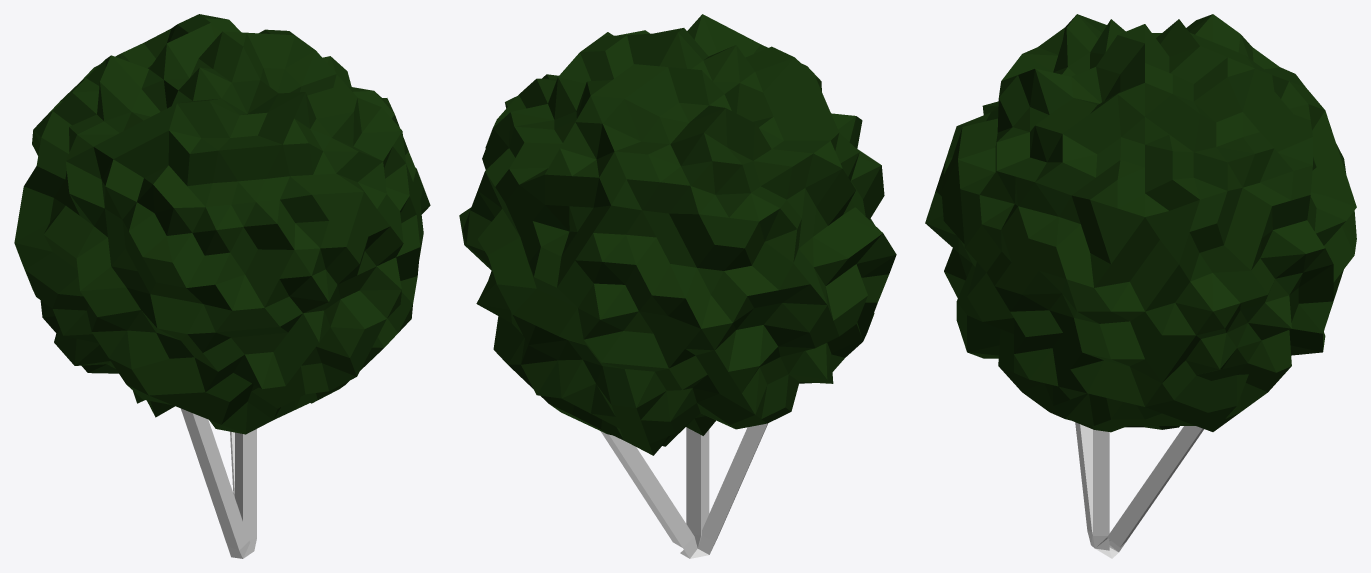
File: Circuito_Arbustos 2.fbx
3 renders of one model, left to right at view 1: azimuth 30°, elevation 25°; view 2: azimuth 150°, elevation 25°; view 3: azimuth 270°, elevation 25°, orthographic. The views are drawn at different scales.
Visible parts, largest first — view 1: Icosphere.010, Cube; view 2: Icosphere.010, Cube; view 3: Icosphere.010, Cube.
Part boxes in pixels (left/top/right/bottom): Icosphere.010: left=14, top=14, right=430, bottom=434; Cube: left=180, top=408, right=256, bottom=558; Icosphere.010: left=459, top=14, right=896, bottom=455; Cube: left=600, top=423, right=767, bottom=558; Icosphere.010: left=925, top=14, right=1356, bottom=432; Cube: left=1075, top=422, right=1204, bottom=558.
Size of the model in its own units: 230 by 320 by 237.
